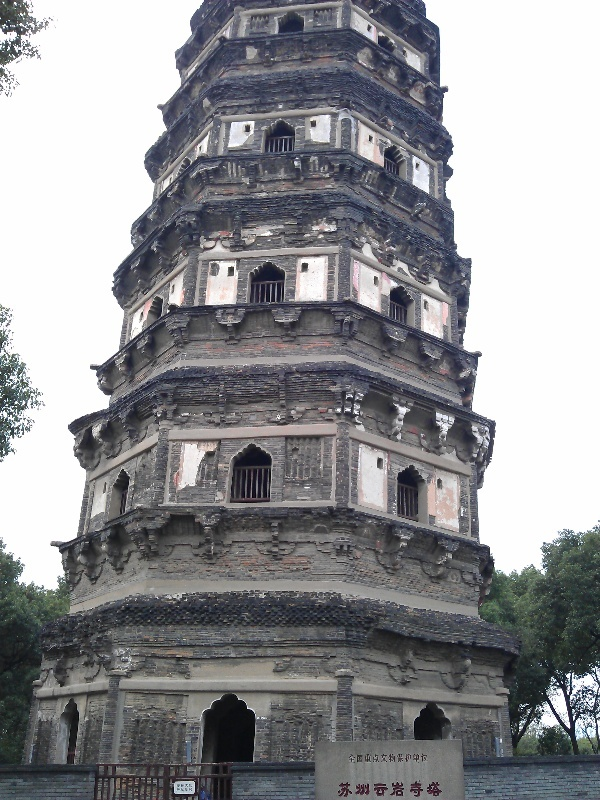text: (337, 781, 352, 799), (353, 781, 368, 799), (369, 781, 384, 799), (385, 781, 400, 799), (401, 781, 416, 799), (417, 781, 432, 799), (433, 781, 444, 799), (353, 753, 368, 764), (369, 753, 384, 764), (385, 753, 400, 764), (401, 753, 416, 764), (417, 753, 429, 764), (177, 788, 193, 793), (177, 784, 192, 788), (348, 753, 352, 764), (193, 784, 194, 788)
